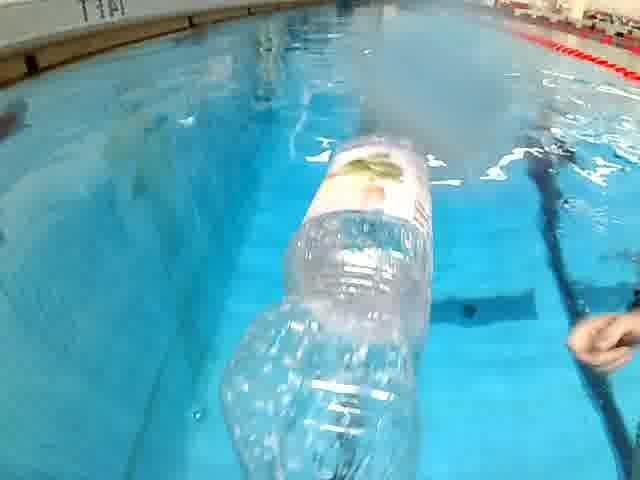Bottle: (202, 117, 442, 479)
